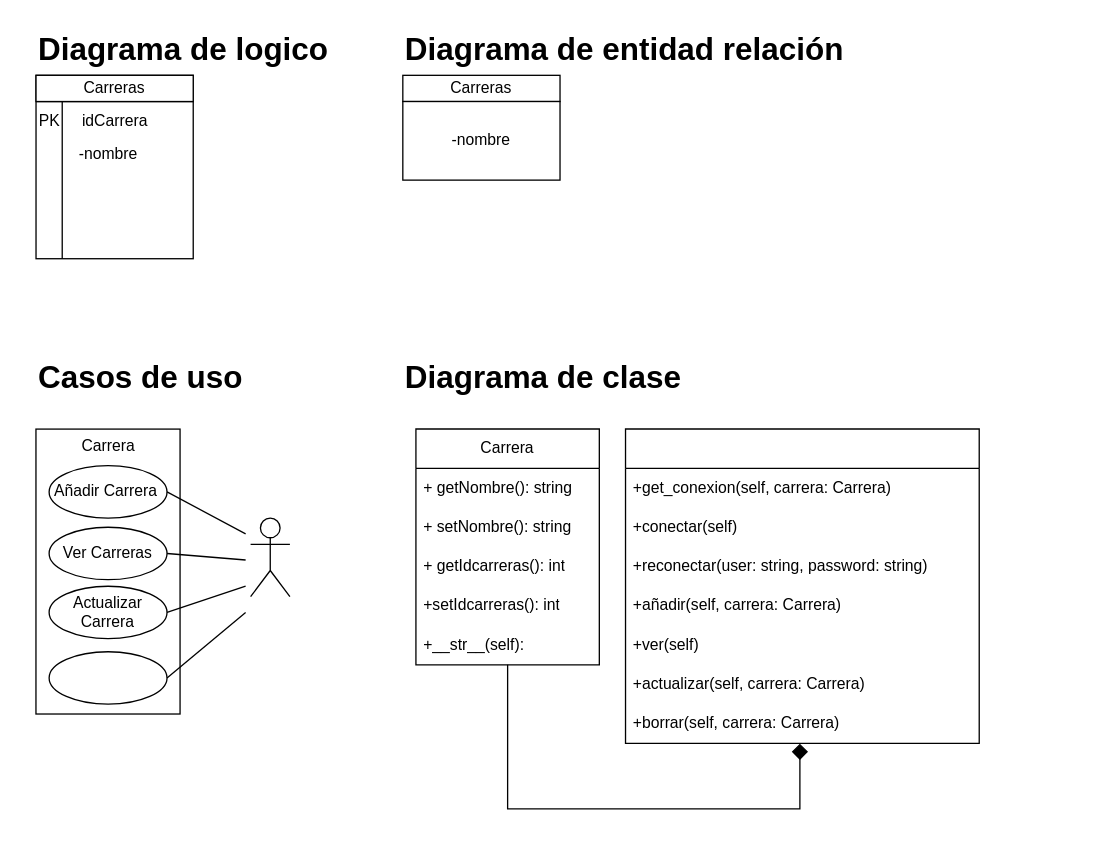
The diagram is 1108 pixels wide and 848 high, and some of its shapes have lost their labels. Here are the shapes that lost their labels. From the top down, the box of each, then its label:
(249, 517, 290, 597): Admin
(624, 428, 979, 743): DAO Carrera
(48, 650, 167, 704): Borrar Carrera
